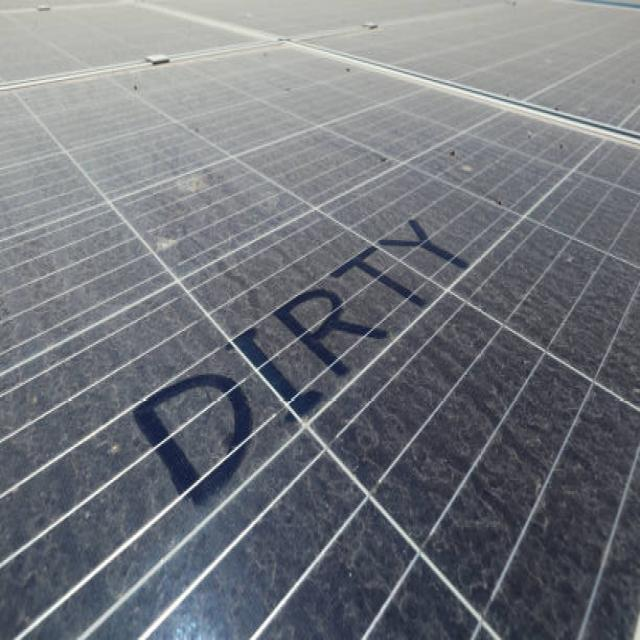dust-solar-panel: (1, 0, 640, 640)
